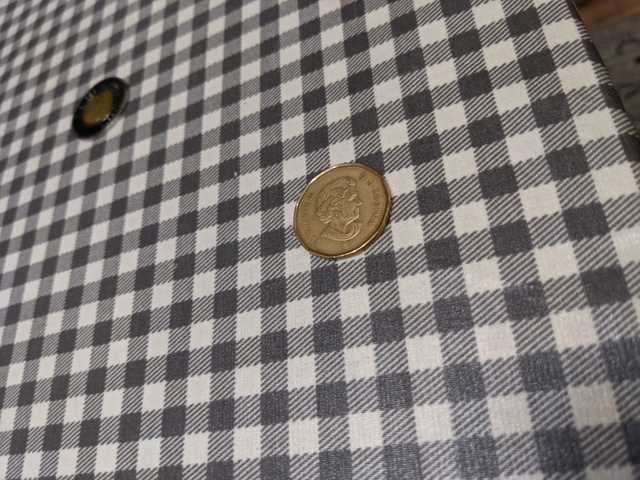loonie: (287, 158, 400, 265)
